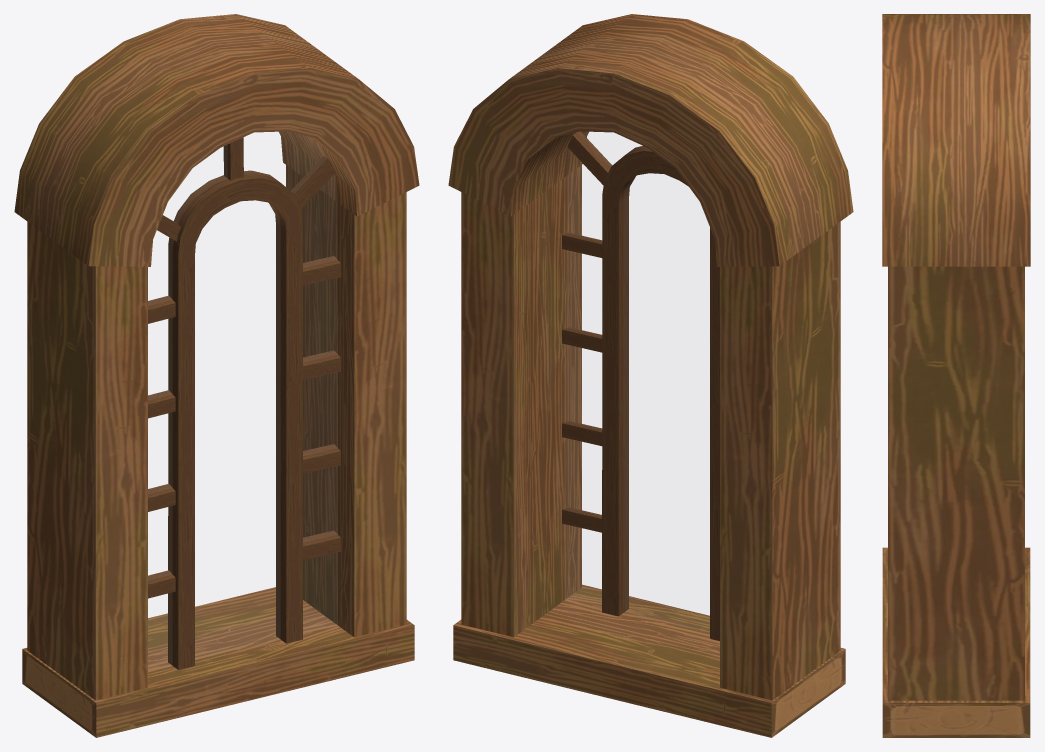
File: Window_Thin_Round1.glb
3 views of the same model, side by side, from view 1: azimuth 30°, elevation 25°; view 2: azimuth 150°, elevation 25°; view 3: azimuth 270°, elevation 25° (orthographic).
Visible parts, largest first — view 1: Window_Thin_Round1; view 2: Window_Thin_Round1; view 3: Window_Thin_Round1.
Part boxes in pixels (x1=…): Window_Thin_Round1: x1=14, y1=14, x2=419, y2=737; Window_Thin_Round1: x1=448, y1=14, x2=853, y2=737; Window_Thin_Round1: x1=882, y1=14, x2=1030, y2=737.
Size of the model in its own units: 0.8877 by 1.6 by 0.3444.
Materials: 2 (1 with a texture image).
